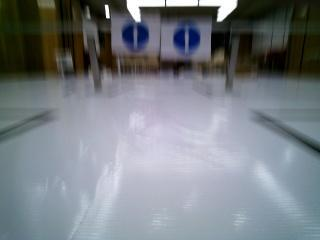straight: (165, 22, 210, 63), (114, 18, 158, 54)
